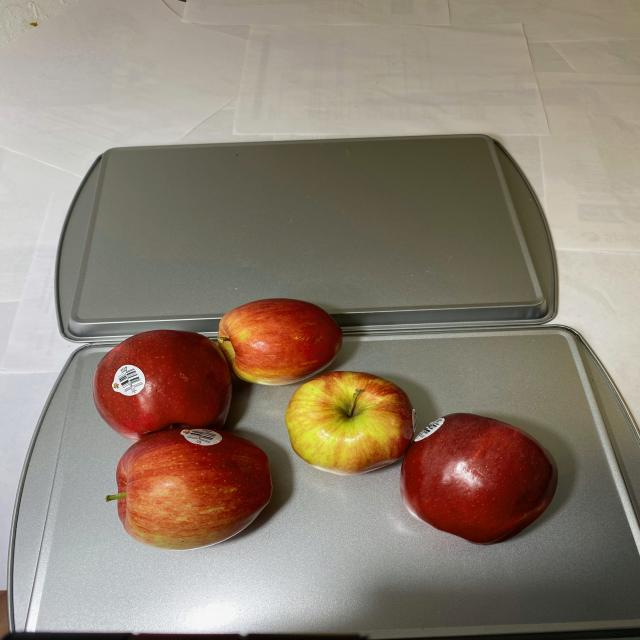apple: (94, 297, 562, 563)
